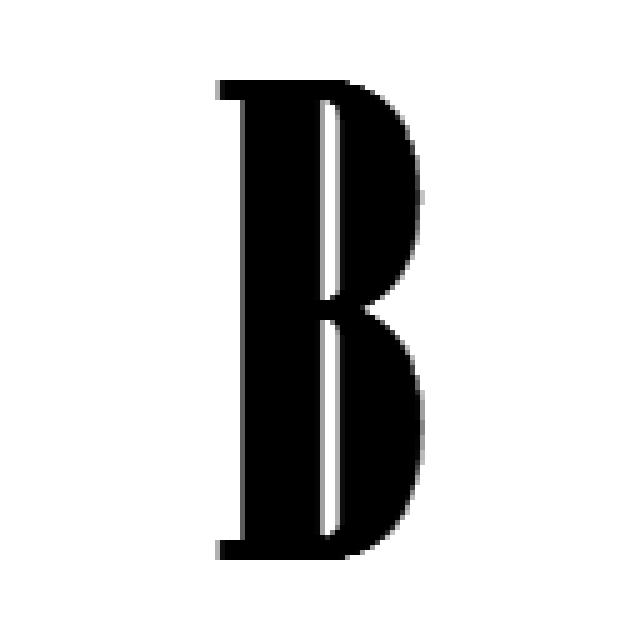B: (215, 80, 425, 560)
